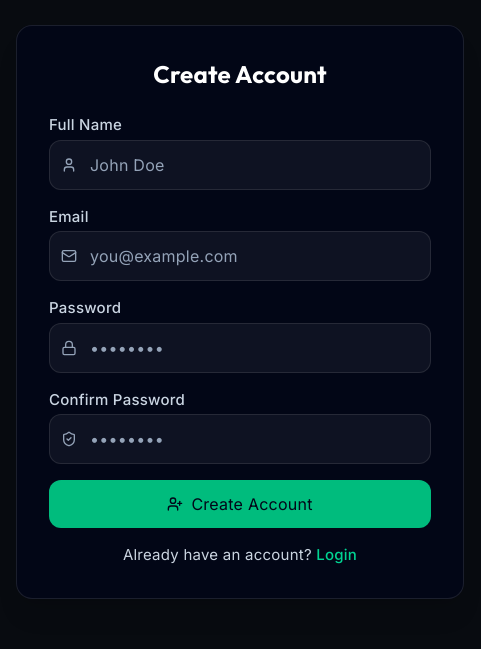
Scenario: Register Component Tests › should calculate password strength when password is typed
// Weak password
In the 1st password field with placeholder "••••••••": [240, 348] box [49,323,431,373], type "123"
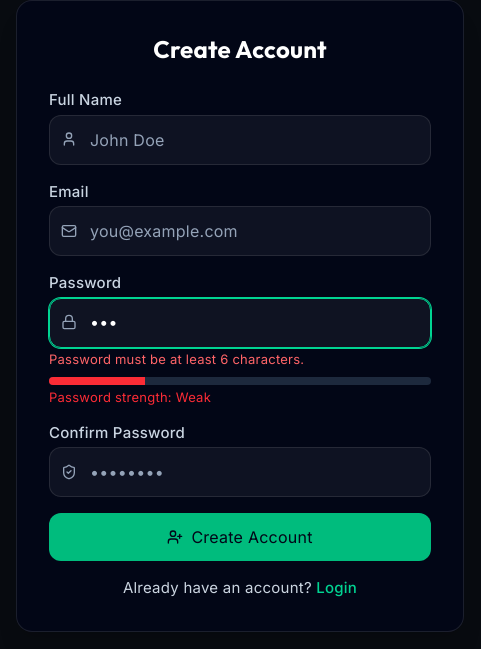
Check: the text "Password strength: Weak" is shown, box [49,389,211,405]
// Stronger password
In the password field with placeholder "••••••••": [240, 322] box [49,297,431,347], type "Aa1!bcdefg"
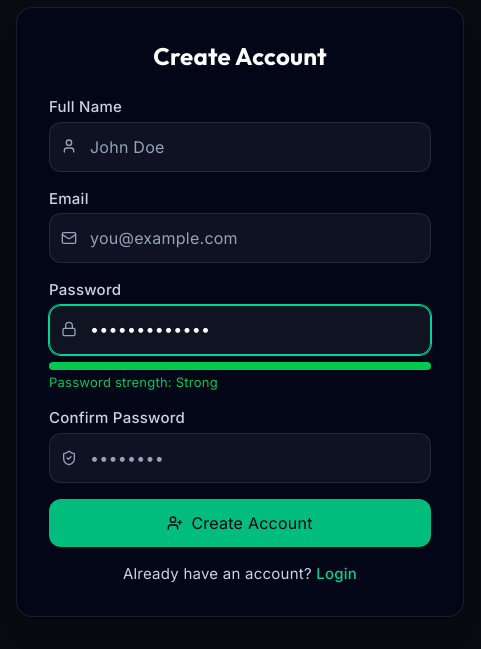
Check: the text "Password strength: Strong" is shown, box [49,374,218,390]
